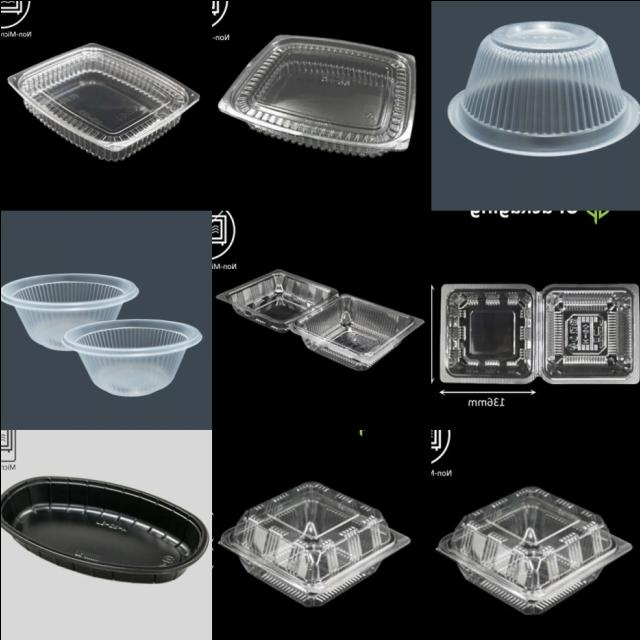plastik: (448, 21, 640, 155), (436, 486, 630, 614), (218, 34, 414, 155), (219, 481, 408, 606), (7, 42, 199, 159), (0, 475, 208, 582), (217, 269, 422, 369), (440, 283, 639, 383), (61, 318, 201, 395), (0, 273, 137, 350)
